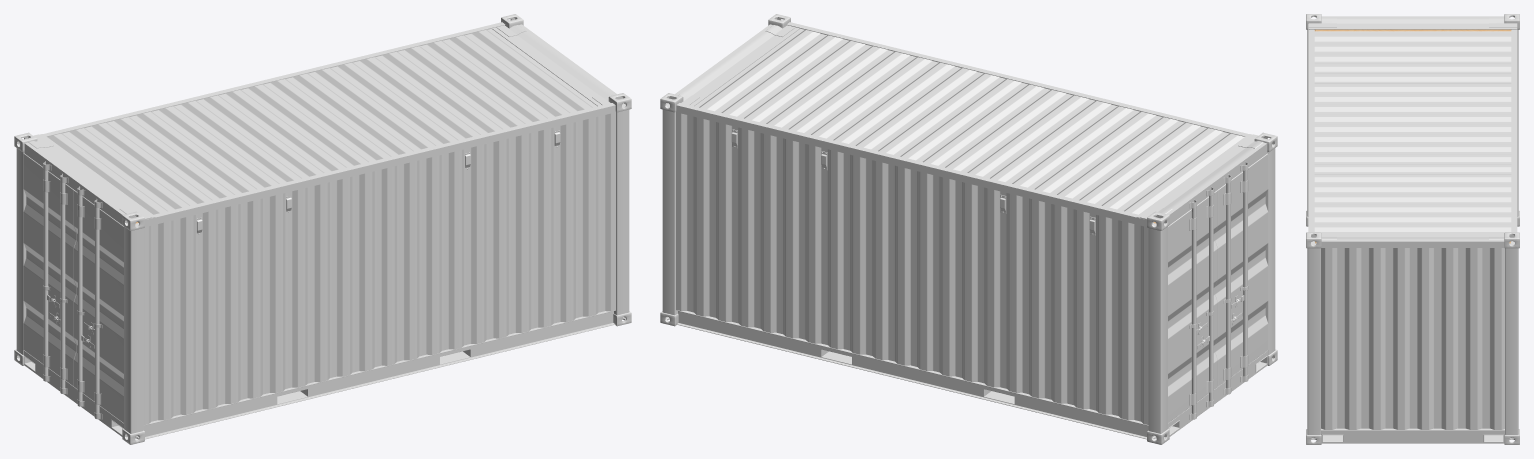
File: container.glb
3 renders of one model, left to right at view 1: azimuth 30°, elevation 25°; view 2: azimuth 150°, elevation 25°; view 3: azimuth 270°, elevation 25°, orthographic. The views are drawn at different scales.
Visible parts, largest first — view 1: SM_Exterior_Blank_01; view 2: SM_Exterior_Blank_01; view 3: SM_Exterior_Blank_01, SM_L01_PlywoodWall_001.
Boxes of the visible parts, x1=… form: SM_Exterior_Blank_01: x1=14, y1=14, x2=631, y2=444; SM_Exterior_Blank_01: x1=660, y1=14, x2=1277, y2=444; SM_Exterior_Blank_01: x1=1306, y1=14, x2=1519, y2=444; SM_L01_PlywoodWall_001: x1=1314, y1=29, x2=1511, y2=243.
Bounding box in the file's own units: 6.11 × 2.6 × 2.44.
Materials: 8 (1 with a texture image).
